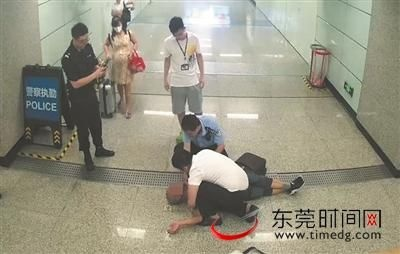falling: (156, 158, 313, 228)
